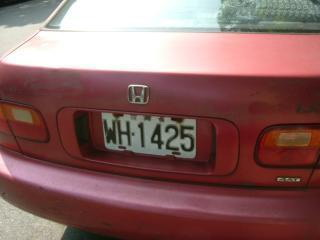plate: (100, 108, 199, 162)
